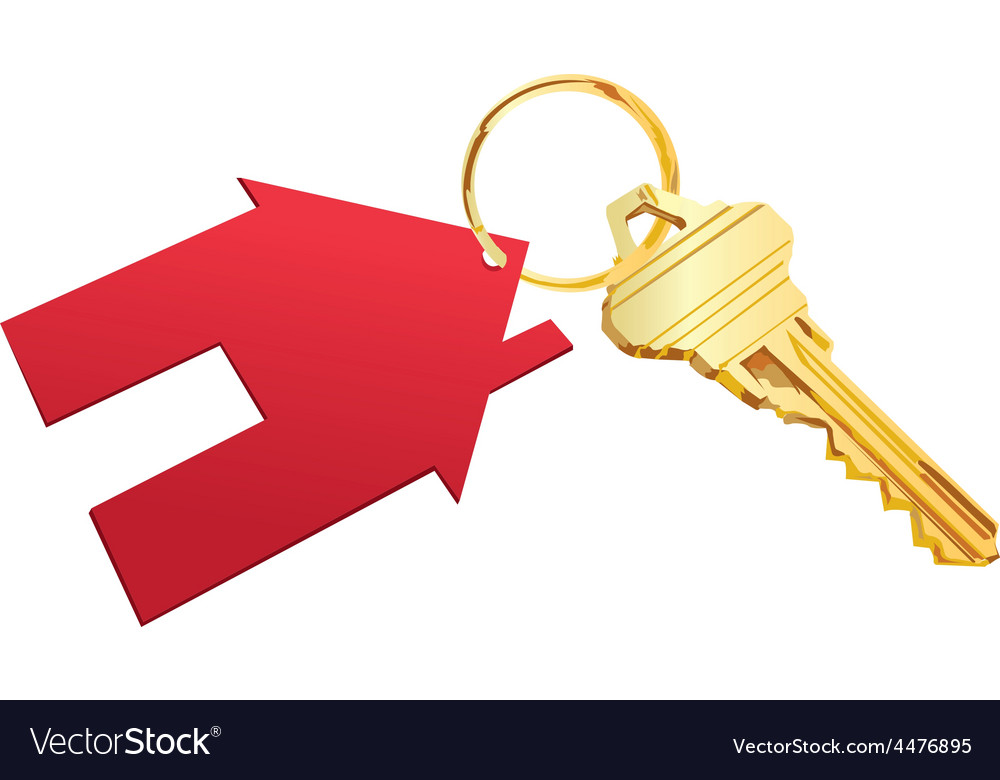key: (598, 184, 997, 571)
